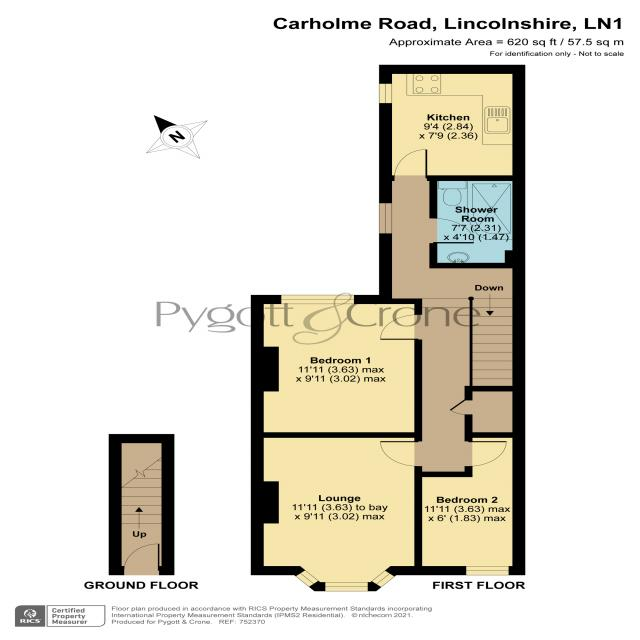DOOR: (428, 217, 476, 244), (379, 440, 423, 468), (393, 149, 429, 182), (379, 314, 423, 341), (464, 441, 507, 468)
ROOM: (250, 432, 423, 592), (250, 294, 423, 438), (378, 64, 526, 181), (414, 431, 526, 576)
WINDOW: (280, 294, 355, 305), (378, 202, 393, 235), (324, 581, 369, 592), (294, 569, 320, 588), (370, 570, 395, 588), (466, 566, 510, 576), (378, 83, 393, 104)
